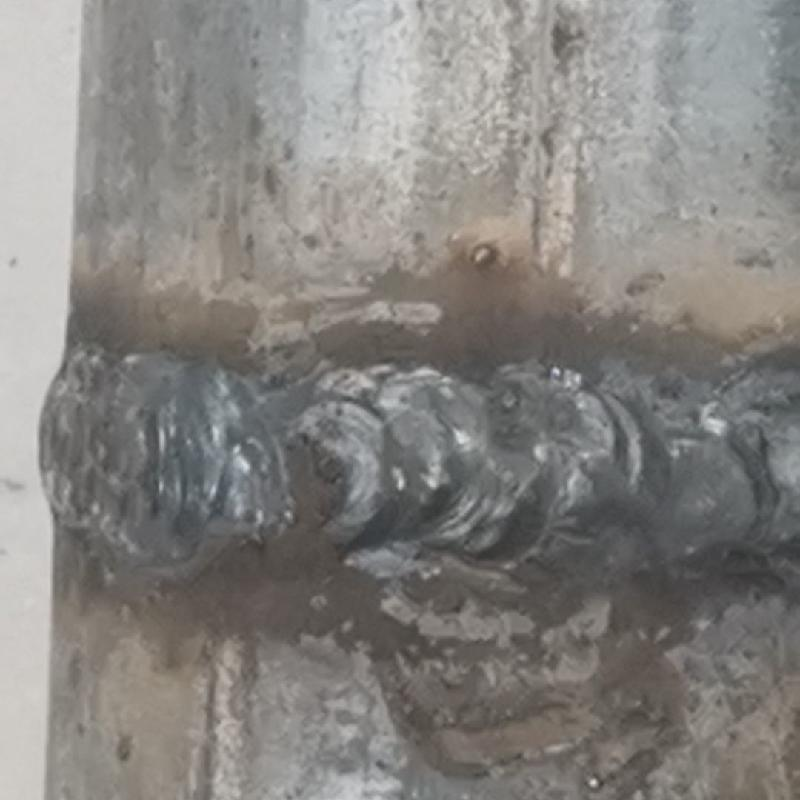good: (38, 338, 799, 563)
